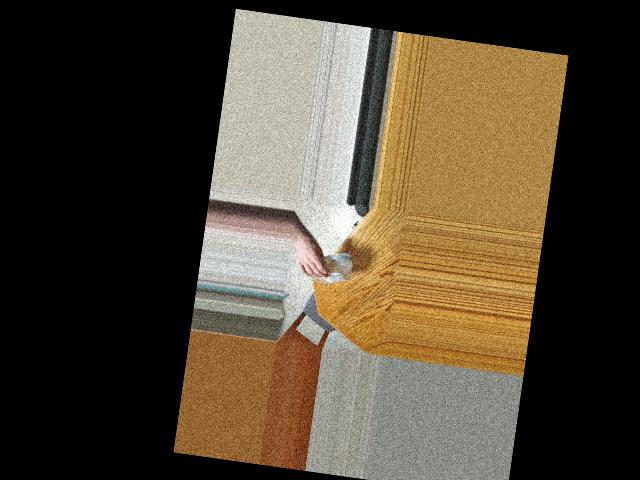cheese: (300, 246, 341, 284)
